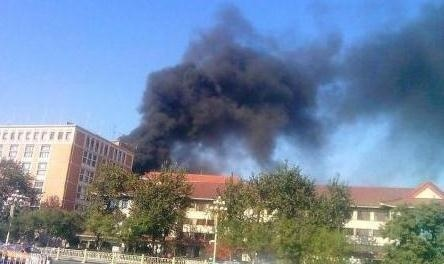fire: (413, 182, 442, 201)
